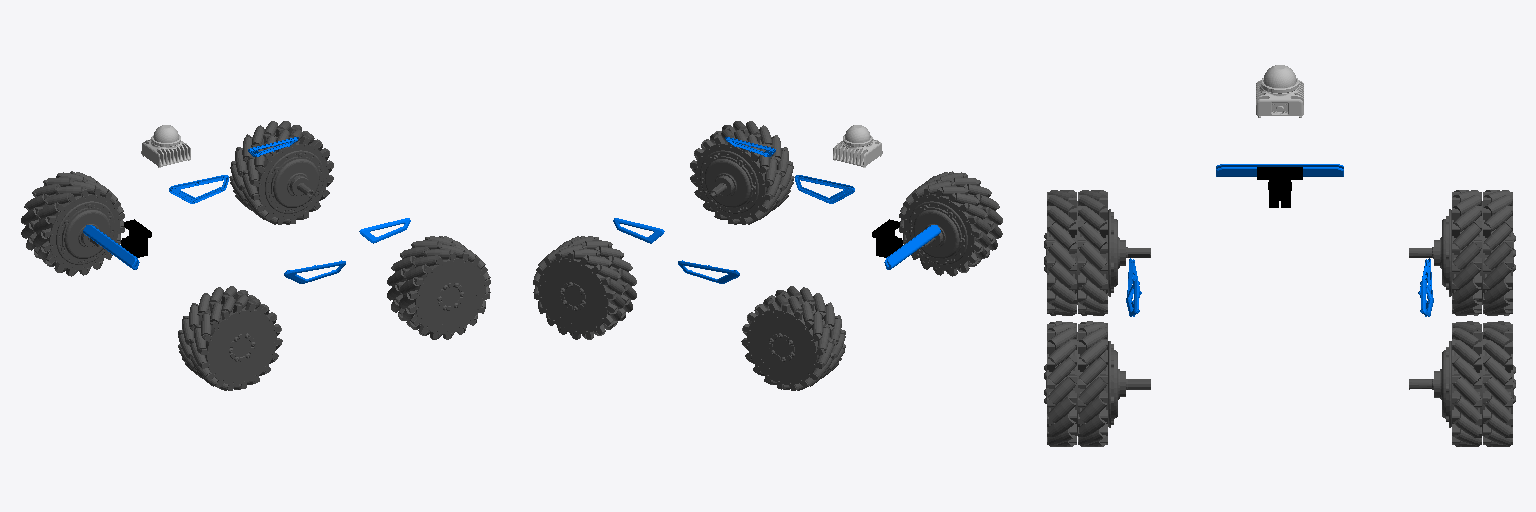
The robot description file, URDF, robot "xpkg_urdf_mark1_mcnm_pro_hkust":
<?xml version="1.0" encoding="utf-8"?>
<!-- This URDF was automatically created by SolidWorks to URDF Exporter! Originally created by Stephen Brawner (brawner@gmail.com) 
     Commit Version: 1.6.0-4-g7f85cfe  Build Version: 1.6.7995.38578
     For more information, please see http://wiki.ros.org/sw_urdf_exporter -->
<robot
  name="xpkg_urdf_mark1_mcnm_pro_hkust">
  <link
    name="base_link">
    <inertial>
      <origin
        xyz="-0.23919 -0.0076434 0.16725"
        rpy="0 0 0" />
      <mass
        value="0.13901" />
      <inertia
        ixx="3.9034E-05"
        ixy="-3.8116E-21"
        ixz="-6.9162E-21"
        iyy="2.9524E-05"
        iyz="1.1415E-08"
        izz="2.3359E-05" />
    </inertial>
    <visual>
      <origin
        xyz="0 0 0"
        rpy="0 0 0" />
      <geometry>
        <mesh
          filename="package://moma_description/meshes/base_link.STL" />
      </geometry>
      <material
        name="">
        <color
          rgba="0 0 0 1" />
      </material>
    </visual>
    <collision>
            <geometry>
                <box size="0.6 0.4 0.16"/>
            </geometry>
            <origin rpy="0 0 0" xyz="0 -0.008 0.154"/>
    </collision>
  </link>
  <link
    name="lf_Link">
    <inertial>
      <origin
        xyz="-1.4413E-06 -0.044165 1.4709E-06"
        rpy="0 0 0" />
      <mass
        value="2.716" />
      <inertia
        ixx="0.006971"
        ixy="-8.4556E-08"
        ixz="3.237E-08"
        iyy="0.010586"
        iyz="2.5235E-07"
        izz="0.0069709" />
    </inertial>
    <visual>
      <origin
        xyz="0 0 0"
        rpy="0 0 0" />
      <geometry>
        <mesh
          filename="package://moma_description/meshes/lf_Link.STL" />
      </geometry>
      <material
        name="">
        <color
          rgba="0.37 0.37 0.37 1" />
      </material>
    </visual>
    <collision>
            <geometry>
                <cylinder length="0.1" radius="0.083"/>
            </geometry>
            <origin rpy="1.5708 0 0" xyz="0 -0.05 0"/>
    </collision>
  </link>
  <joint
    name="lf_Joint"
    type="fixed">
    <origin
      xyz="0.20606 0.302 0.082983"
      rpy="0 0 0" />
    <parent
      link="base_link" />
    <child
      link="lf_Link" />
    <axis
      xyz="0 -1 0" />
  </joint>
  <link
    name="lb_Link">
    <inertial>
      <origin
        xyz="1.6945E-06 -0.044165 -1.1688E-06"
        rpy="0 0 0" />
      <mass
        value="2.716" />
      <inertia
        ixx="0.0069709"
        ixy="2.6308E-07"
        ixz="1.4965E-08"
        iyy="0.010586"
        iyz="-4.0208E-08"
        izz="0.006971" />
    </inertial>
    <visual>
      <origin
        xyz="0 0 0"
        rpy="0 0 0" />
      <geometry>
        <mesh
          filename="package://moma_description/meshes/lb_Link.STL" />
      </geometry>
      <material
        name="">
        <color
          rgba="0.37 0.37 0.37 1" />
      </material>
    </visual>
    <collision>
            <geometry>
                <cylinder length="0.1" radius="0.083"/>
            </geometry>
            <origin rpy="1.5708 0 0" xyz="0 -0.05 0"/>
    </collision>
  </link>
  <joint
    name="lb_Joint"
    type="fixed">
    <origin
      xyz="-0.20666 0.302 0.082983"
      rpy="0 0 0" />
    <parent
      link="base_link" />
    <child
      link="lb_Link" />
    <axis
      xyz="0 -1 0" />
  </joint>
  <link
    name="rf_Link">
    <inertial>
      <origin
        xyz="8.5684E-07 0.044165 -1.8717E-06"
        rpy="0 0 0" />
      <mass
        value="2.716" />
      <inertia
        ixx="0.006971"
        ixy="6.0861E-09"
        ixz="-4.4919E-09"
        iyy="0.010586"
        iyz="2.6607E-07"
        izz="0.0069709" />
    </inertial>
    <visual>
      <origin
        xyz="0 0 0"
        rpy="0 0 0" />
      <geometry>
        <mesh
          filename="package://moma_description/meshes/rf_Link.STL" />
      </geometry>
      <material
        name="">
        <color
          rgba="0.37 0.37 0.37 1" />
      </material>
    </visual>
    <collision>
            <geometry>
                <cylinder length="0.1" radius="0.083"/>
            </geometry>
            <origin rpy="1.5708 0 0" xyz="0 0.05 0"/>
    </collision>
  </link>
  <joint
    name="rf_Joint"
    type="fixed">
    <origin
      xyz="0.20606 -0.3173 0.082983"
      rpy="0 0 0" />
    <parent
      link="base_link" />
    <child
      link="rf_Link" />
    <axis
      xyz="0 1 0" />
  </joint>
  <link
    name="rb_Link">
    <inertial>
      <origin
        xyz="-1.1983E-06 0.044165 1.6748E-06"
        rpy="0 0 0" />
      <mass
        value="2.716" />
      <inertia
        ixx="0.006971"
        ixy="2.3383E-07"
        ixz="4.6185E-08"
        iyy="0.010586"
        iyz="-1.2709E-07"
        izz="0.006971" />
    </inertial>
    <visual>
      <origin
        xyz="0 0 0"
        rpy="0 0 0" />
      <geometry>
        <mesh
          filename="package://moma_description/meshes/rb_Link.STL" />
      </geometry>
      <material
        name="">
        <color
          rgba="0.37 0.37 0.37 1" />
      </material>
    </visual>
    <collision>
            <geometry>
                <cylinder length="0.1" radius="0.083"/>
            </geometry>
            <origin rpy="1.5708 0 0" xyz="0 0.05 0"/>
    </collision>
  </link>
  <joint
    name="rb_Joint"
    type="fixed">
    <origin
      xyz="-0.20666 -0.3173 0.082983"
      rpy="0 0 0" />
    <parent
      link="base_link" />
    <child
      link="rb_Link" />
    <axis
      xyz="0 1 0" />
  </joint>
  <link
    name="radar_Link">
    <inertial>
      <origin
        xyz="-0.00023725 4.4243E-08 -0.035474"
        rpy="0 0 0" />
      <mass
        value="0.12465" />
      <inertia
        ixx="3.641E-05"
        ixy="-2.9136E-11"
        ixz="-3.049E-07"
        iyy="3.9658E-05"
        iyz="-1.358E-10"
        izz="5.8108E-05" />
    </inertial>
    <visual>
      <origin
        xyz="0 0 0"
        rpy="0 0 0" />
      <geometry>
        <mesh
          filename="package://moma_description/meshes/radar_Link.STL" />
      </geometry>
      <material
        name="">
        <color
          rgba="0.75 0.75 0.75 1" />
      </material>
    </visual>
    <collision>
            <geometry>
                <box size="0.06 0.06 0.05"/>
            </geometry>
            <origin rpy="0 0 0" xyz="0 0 -0.023"/> 
    </collision>
  </link>
  <joint
    name="radar_Joint"
    type="fixed">
    <origin
      xyz="-0.17765 -0.0076466 0.36849"
      rpy="0 0 0" />
    <parent
      link="base_link" />
    <child
      link="radar_Link" />
    <axis
      xyz="0 0 1" />
  </joint>
  <link
    name="print_Link">
    <inertial>
      <origin
        xyz="-0.13941 -0.0076465 0.15857"
        rpy="0 0 0" />
      <mass
        value="0.048817" />
      <inertia
        ixx="6.8735E-05"
        ixy="1.1947E-12"
        ixz="2.6312E-07"
        iyy="2.366E-05"
        iyz="2.8424E-13"
        izz="8.7334E-05" />
    </inertial>
    <visual>
      <origin
        xyz="0 0 0"
        rpy="0 0 0" />
      <geometry>
        <mesh
          filename="package://moma_description/meshes/print_Link.STL" />
      </geometry>
      <material
        name="">
        <color
          rgba="0 0.5 1 1" />
      </material>
    </visual>
  </link>
  <joint
    name="print_Joint"
    type="fixed">
    <origin
      xyz="0 0 0"
      rpy="0 0 0" />
    <parent
      link="base_link" />
    <child
      link="print_Link" />
    <axis
      xyz="0 0 1" />
  </joint>
  <link
    name="other_Link">
    <inertial>
      <origin
        xyz="-0.0066087 -0.0071056 0.17596"
        rpy="0 0 0" />
      <mass
        value="7.6241" />
      <inertia
        ixx="0.069495"
        ixy="-0.00011835"
        ixz="0.00051871"
        iyy="0.12492"
        iyz="8.9487E-06"
        izz="0.18996" />
    </inertial>
    <visual>
      <origin
        xyz="0 0 0"
        rpy="0 0 0" />
      <geometry>
        <mesh
          filename="package://moma_description/meshes/other_Link.STL" />
      </geometry>
      <material
        name="">
        <color
          rgba="0.5 0.5 0.5 1" />
      </material>
    </visual>
    <collision>
            <geometry>
                <box size="0.4 0.3 0.06"/>
            </geometry>
            <origin rpy="0 0 0" xyz="0 0 0.274"/>
    </collision>
  </link>
  <joint
    name="other_Joint"
    type="fixed">
    <origin
      xyz="0 0 0"
      rpy="0 0 0" />
    <parent
      link="base_link" />
    <child
      link="other_Link" />
    <axis
      xyz="0 0 1" />
  </joint>
</robot>

--- Render facts (derived) ---
Views: 3 orthographic renders of the robot side by side, from view 1: azimuth 30°, elevation 25°; view 2: azimuth 150°, elevation 25°; view 3: azimuth 270°, elevation 25°.
Model xpkg_urdf_mark1_mcnm_pro_hkust with 8 links and 7 joints (7 fixed), rooted at base_link, posed every joint at zero.
Links seen in each view (by area): view 1: rb_Link, rf_Link, lf_Link, lb_Link, print_Link, radar_Link, base_link; view 2: lb_Link, lf_Link, rf_Link, rb_Link, print_Link, radar_Link, base_link; view 3: rb_Link, rf_Link, lb_Link, lf_Link, print_Link, radar_Link, base_link.
Boxes of the visible links, box(x1,y1,x2,y2) form: rb_Link: box(178, 286, 282, 390); rf_Link: box(387, 236, 490, 339); lf_Link: box(229, 121, 333, 224); lb_Link: box(21, 171, 124, 276); print_Link: box(83, 137, 410, 283); radar_Link: box(141, 125, 190, 167); base_link: box(121, 219, 151, 257); lb_Link: box(741, 286, 845, 390); lf_Link: box(533, 236, 636, 339); rf_Link: box(690, 121, 794, 224); rb_Link: box(899, 171, 1002, 276); print_Link: box(613, 137, 940, 283); radar_Link: box(833, 125, 882, 167); base_link: box(872, 219, 902, 257); rb_Link: box(1044, 190, 1150, 315); rf_Link: box(1044, 321, 1150, 446); lb_Link: box(1409, 190, 1515, 315); lf_Link: box(1409, 321, 1515, 446); print_Link: box(1126, 164, 1433, 316); radar_Link: box(1256, 65, 1303, 117); base_link: box(1257, 167, 1302, 207).
Size in the robot's own frame: 0.5838 by 0.6249 by 0.3691 metres.
Meshes: 8 distinct files referenced, 7 mesh visuals loaded (7 binary STL); not drawn: 1 (reference not matched to a file when rendering).
